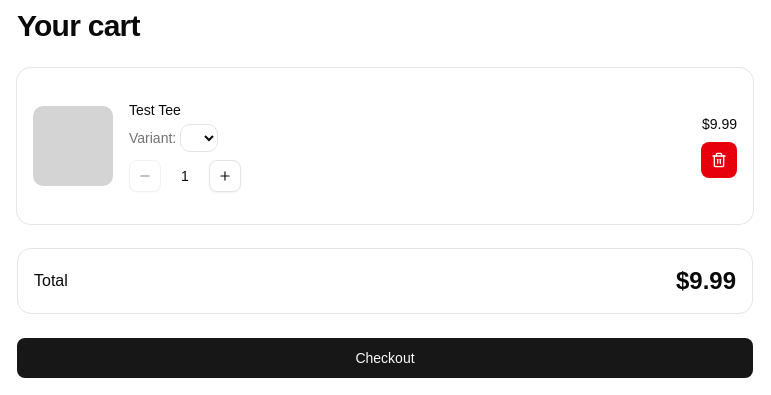
Scenario: Cart › removes an item directly when its quantity is one
Click the button named "Remove Test Tee" at (719, 160), box x1=701 y1=142 x2=737 y2=178
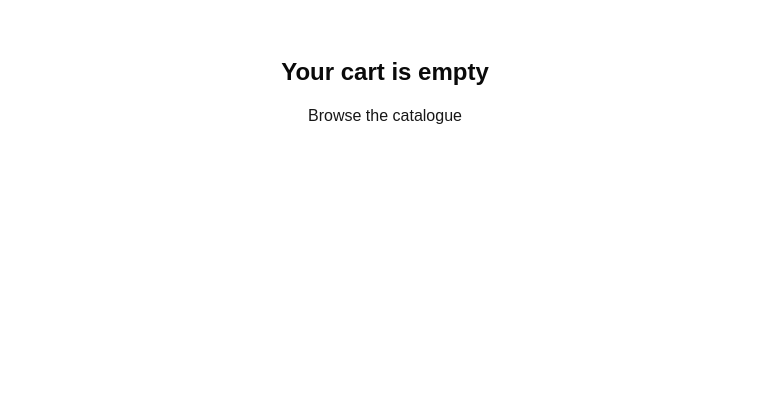
Now the heading "Your cart is empty" is shown, box x1=281 y1=58 x2=489 y2=85
